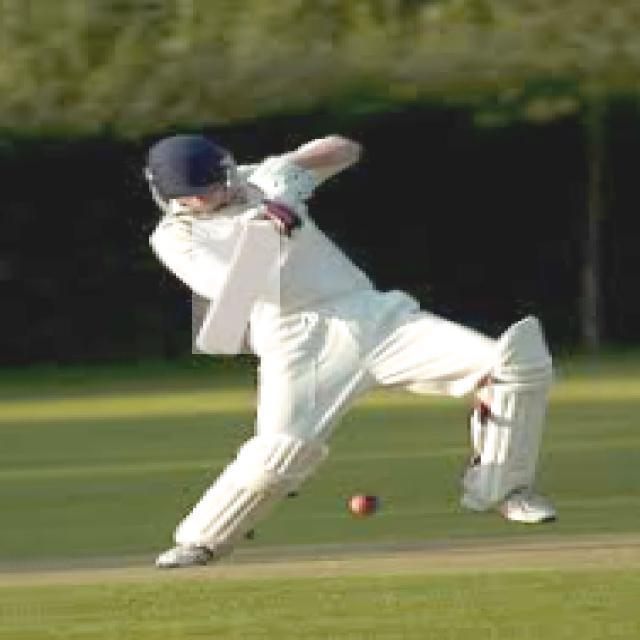bat: (191, 219, 280, 356)
toe: (193, 343, 231, 356)
